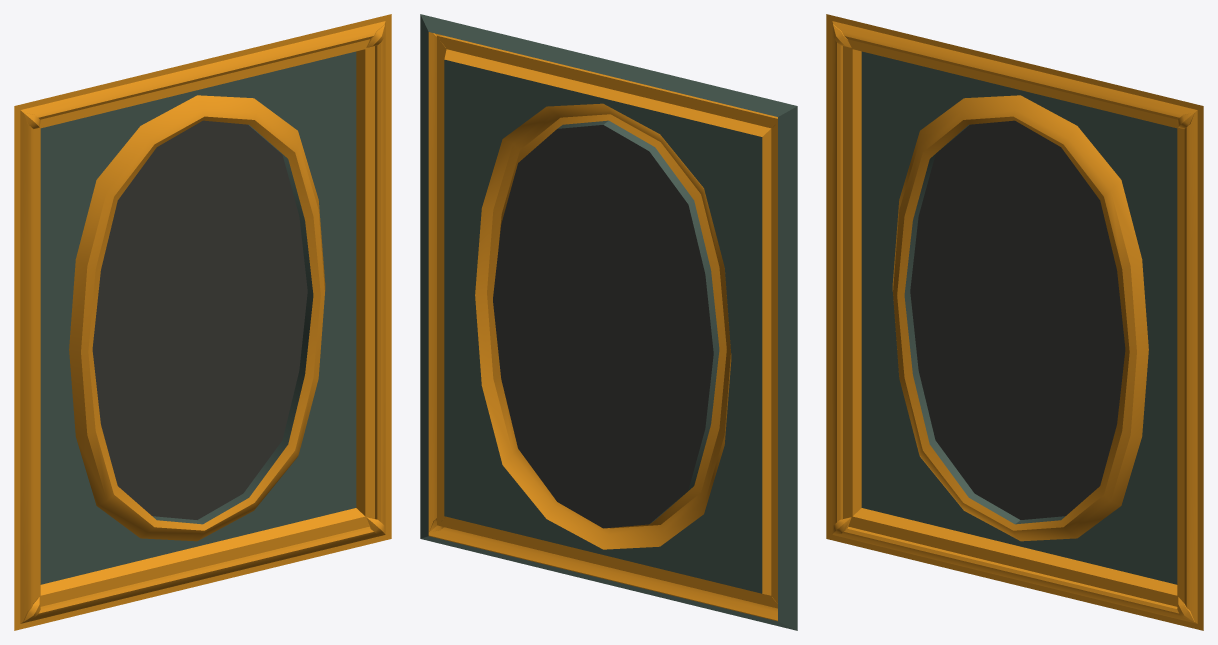
Rendered from PaintingOvalInnerFrame.fbx.
3 views of the same model, side by side, from view 1: azimuth 30°, elevation 25°; view 2: azimuth 150°, elevation 25°; view 3: azimuth 330°, elevation 25° (orthographic).
Visible parts, largest first — view 1: Plane; view 2: Plane; view 3: Plane.
Boxes of the visible parts, <box> form: Plane: <box>14,14,391,630</box>; Plane: <box>420,14,797,630</box>; Plane: <box>826,14,1203,630</box>.
Bounding box in the file's own units: 74.26 × 98.65 × 3.53.
